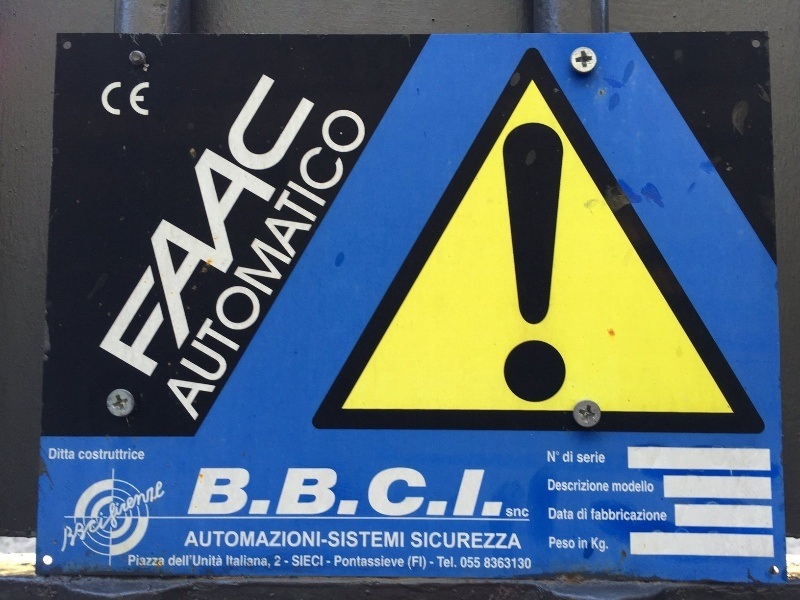text: (177, 100, 192, 426), (193, 100, 208, 426), (209, 100, 224, 426), (225, 100, 240, 426), (241, 100, 256, 426), (257, 100, 272, 426), (273, 100, 288, 426), (289, 100, 304, 426), (305, 100, 320, 426), (321, 100, 336, 426), (337, 100, 352, 426), (353, 100, 368, 426), (97, 70, 112, 386), (113, 70, 128, 386), (129, 70, 144, 386), (145, 70, 160, 386), (161, 70, 176, 386), (177, 70, 192, 386), (193, 70, 208, 386), (209, 70, 224, 386), (225, 70, 240, 386), (241, 70, 256, 386), (257, 70, 272, 386), (273, 70, 288, 386), (289, 70, 304, 386), (305, 70, 320, 386), (513, 121, 528, 404), (529, 121, 544, 404), (545, 121, 560, 404), (164, 100, 176, 426), (499, 121, 512, 404), (561, 121, 574, 404), (88, 70, 96, 386), (369, 100, 375, 426), (65, 477, 80, 561), (81, 477, 96, 561), (97, 477, 112, 561), (113, 477, 128, 561), (129, 477, 144, 561), (145, 477, 160, 561), (209, 467, 224, 518), (225, 467, 240, 518), (241, 467, 256, 518), (257, 467, 272, 518), (273, 467, 288, 518), (289, 467, 304, 518), (305, 467, 320, 518), (321, 467, 336, 518), (337, 467, 352, 518), (353, 467, 368, 518), (369, 467, 384, 518), (385, 467, 400, 518), (401, 467, 416, 518), (417, 467, 432, 518), (433, 467, 448, 518), (449, 467, 464, 518), (465, 467, 480, 518), (481, 467, 496, 518), (497, 467, 511, 518), (321, 70, 323, 386), (161, 477, 168, 561), (113, 81, 128, 116), (129, 81, 144, 116), (200, 467, 208, 518), (101, 81, 112, 116), (305, 531, 321, 548), (337, 531, 352, 549), (353, 531, 368, 549), (369, 531, 384, 549), (385, 531, 400, 549), (417, 532, 432, 550), (433, 532, 448, 550), (449, 532, 464, 550), (465, 532, 480, 550), (481, 532, 496, 550), (497, 532, 512, 550), (193, 531, 208, 548), (209, 531, 224, 548), (225, 531, 240, 548), (241, 531, 256, 548), (257, 531, 272, 548), (273, 531, 288, 548), (289, 531, 304, 548), (593, 538, 609, 553), (241, 555, 256, 570), (257, 555, 272, 570), (593, 478, 609, 492), (226, 555, 240, 570), (561, 478, 576, 492), (577, 478, 592, 492), (625, 479, 640, 493), (593, 508, 608, 522), (609, 508, 624, 522), (625, 508, 640, 522), (641, 508, 656, 522), (641, 479, 655, 493), (129, 554, 144, 567), (145, 554, 160, 567), (337, 555, 352, 568), (353, 555, 368, 568), (369, 555, 384, 568), (385, 555, 400, 568), (497, 557, 512, 570), (513, 557, 528, 570), (577, 451, 592, 464), (561, 537, 576, 550), (129, 449, 145, 461), (465, 557, 481, 569), (561, 507, 575, 520), (578, 537, 592, 550), (49, 448, 64, 460), (81, 449, 96, 461), (97, 449, 112, 461), (113, 449, 128, 461), (177, 555, 192, 567), (193, 555, 208, 567), (305, 555, 320, 567), (577, 508, 592, 520), (145, 81, 150, 116), (593, 451, 606, 464), (274, 555, 288, 567), (562, 451, 576, 463), (548, 478, 560, 492), (612, 479, 624, 493), (513, 532, 522, 550), (513, 508, 529, 518), (209, 555, 222, 567), (436, 556, 448, 569), (484, 557, 496, 570), (547, 451, 560, 463), (292, 555, 304, 567), (328, 531, 336, 549), (549, 507, 560, 520), (549, 537, 560, 550), (657, 508, 667, 522), (417, 556, 426, 571), (65, 448, 75, 460), (408, 556, 416, 571), (449, 556, 457, 569), (168, 555, 176, 567), (411, 532, 416, 550), (506, 508, 512, 518), (401, 531, 404, 549), (161, 554, 165, 567), (401, 555, 405, 568), (189, 531, 192, 548), (460, 557, 464, 569), (529, 557, 532, 570), (590, 508, 592, 522), (334, 555, 336, 568), (78, 449, 80, 461), (321, 555, 323, 567), (591, 538, 592, 553)
